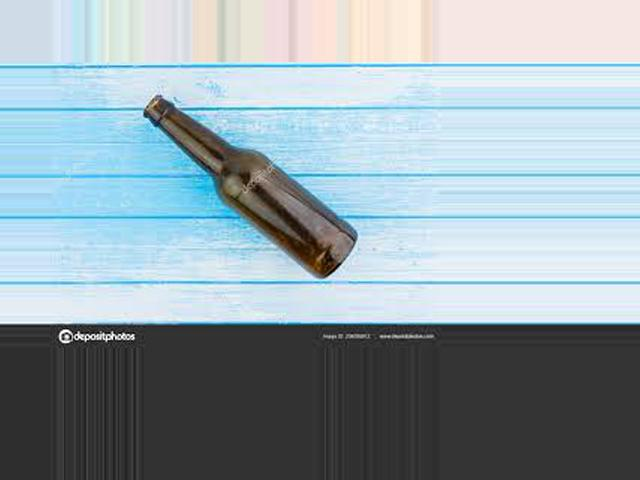beer: (145, 94, 358, 282)
